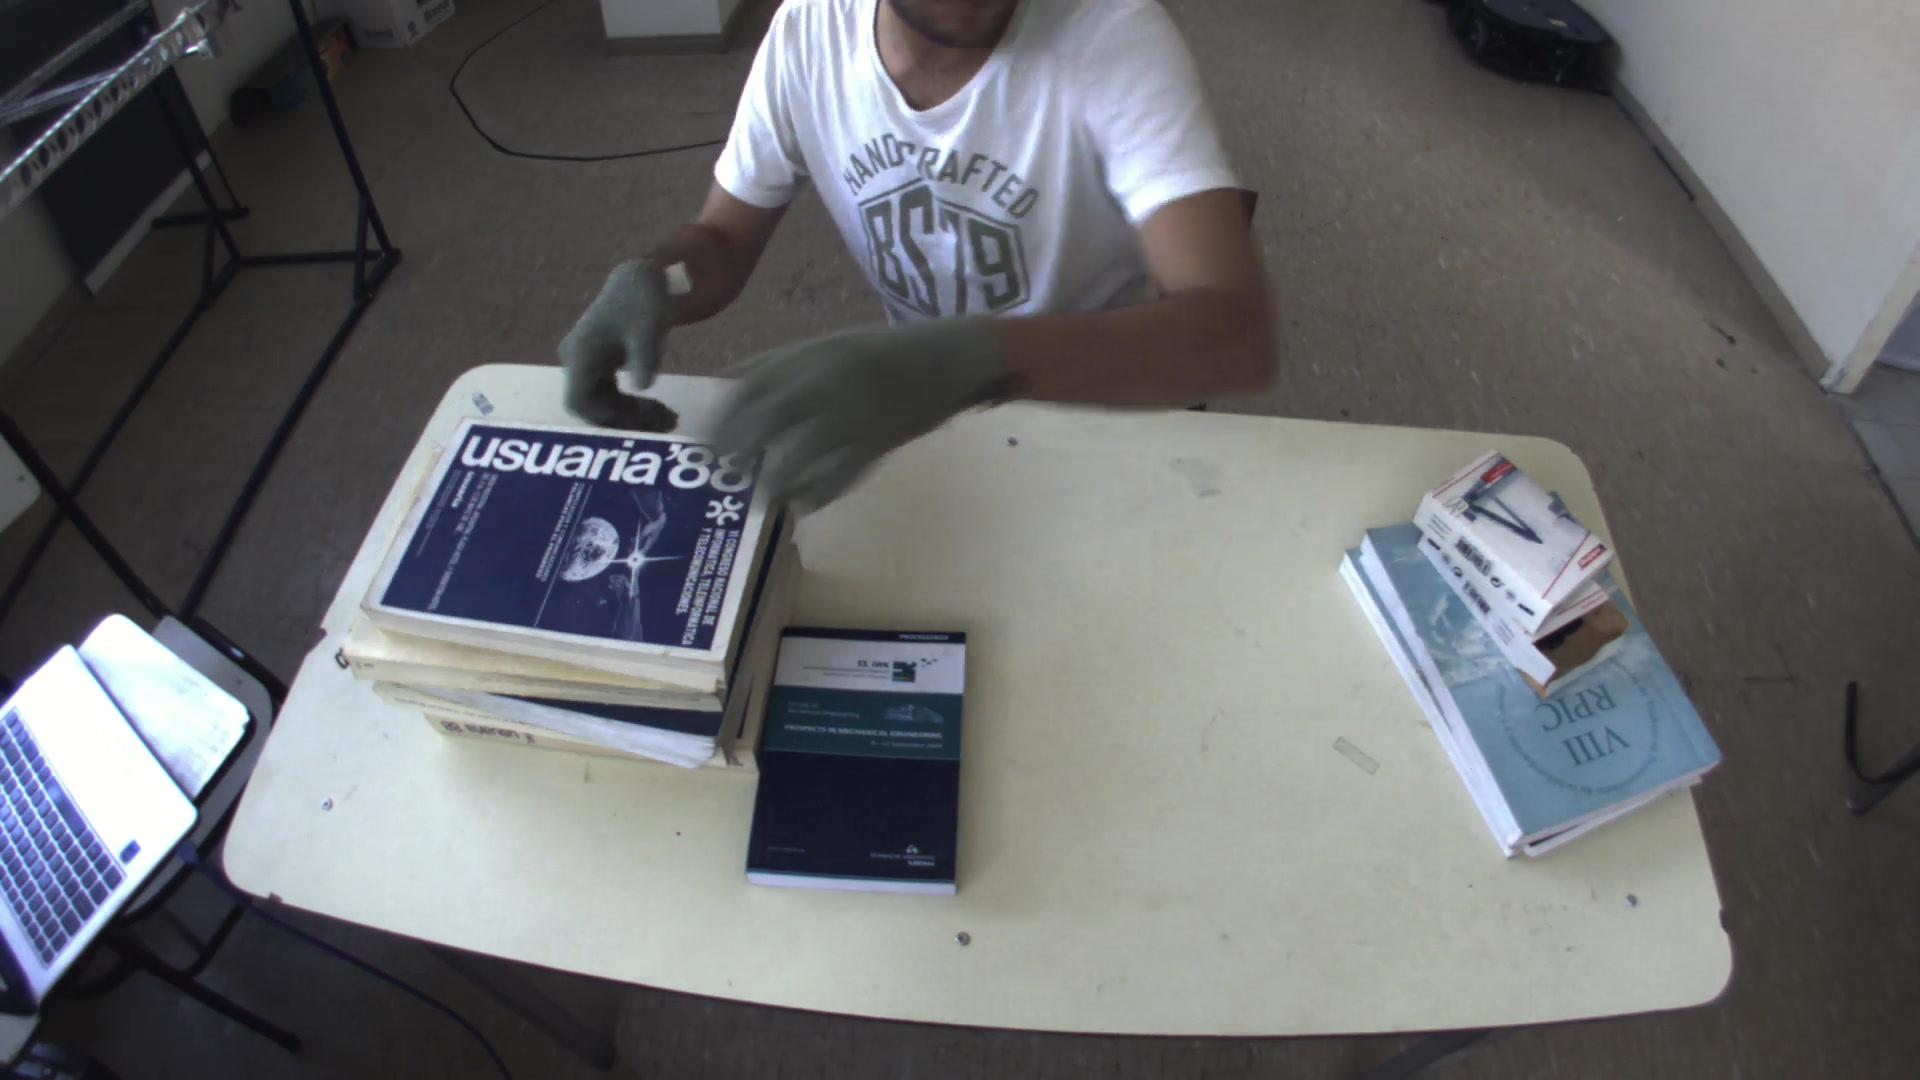hand: (702, 302, 1021, 524), (545, 251, 680, 443)
